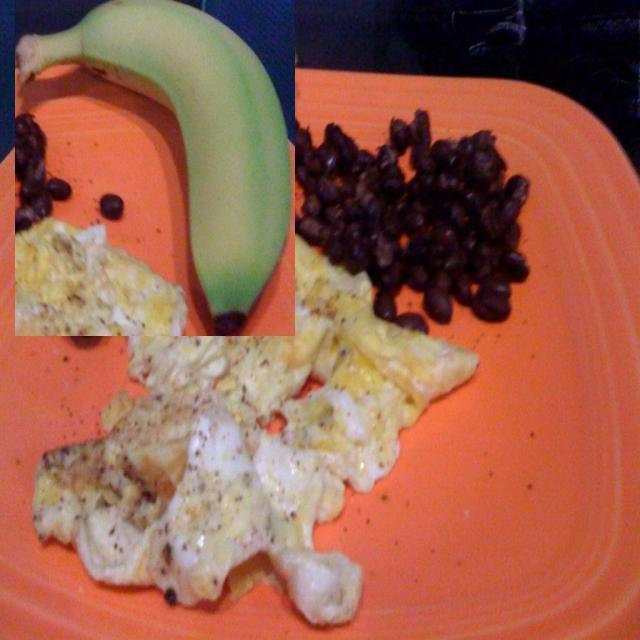Banana: (15, 0, 295, 336)
